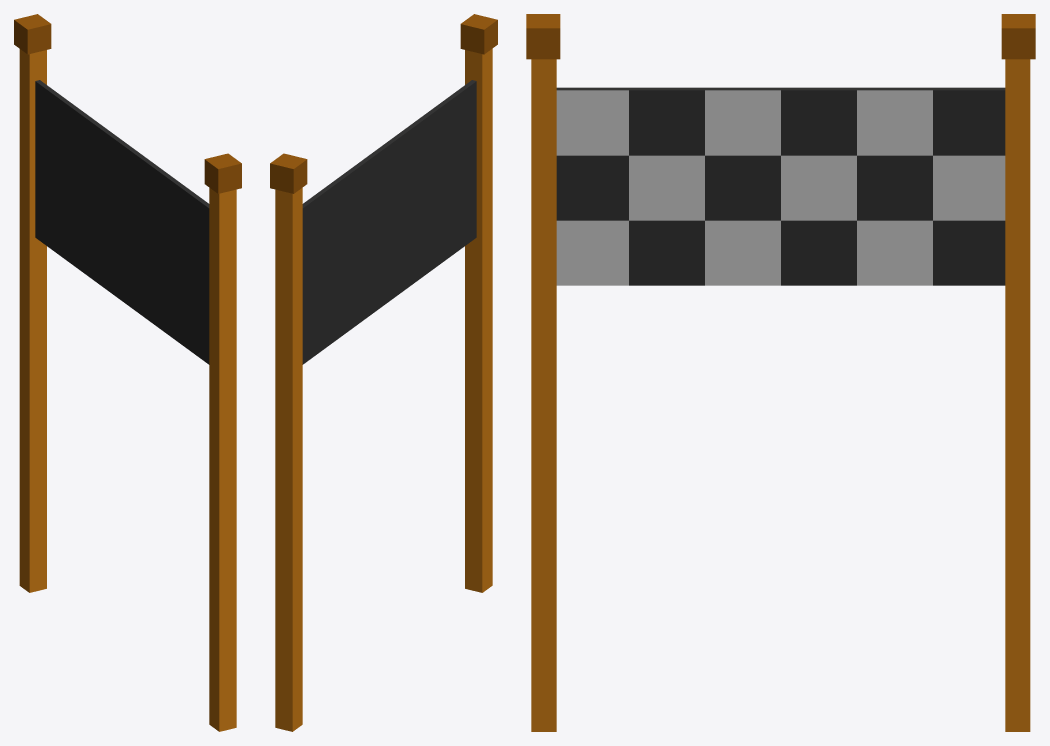
Rendered from finishline.fbx.
3 renders of one model, left to right at view 1: azimuth 30°, elevation 25°; view 2: azimuth 150°, elevation 25°; view 3: azimuth 270°, elevation 25°, orthographic. The views are drawn at different scales.
Parts seen in each view (by area): view 1: Cube.001; view 2: Cube.001; view 3: Cube.001.
Boxes of the visible parts, x1,y1,x2,y2 form: Cube.001: (14,14,241,731); Cube.001: (270,14,497,731); Cube.001: (526,14,1035,731).
Bounding box in the file's own units: 43.24 × 985 × 645.
